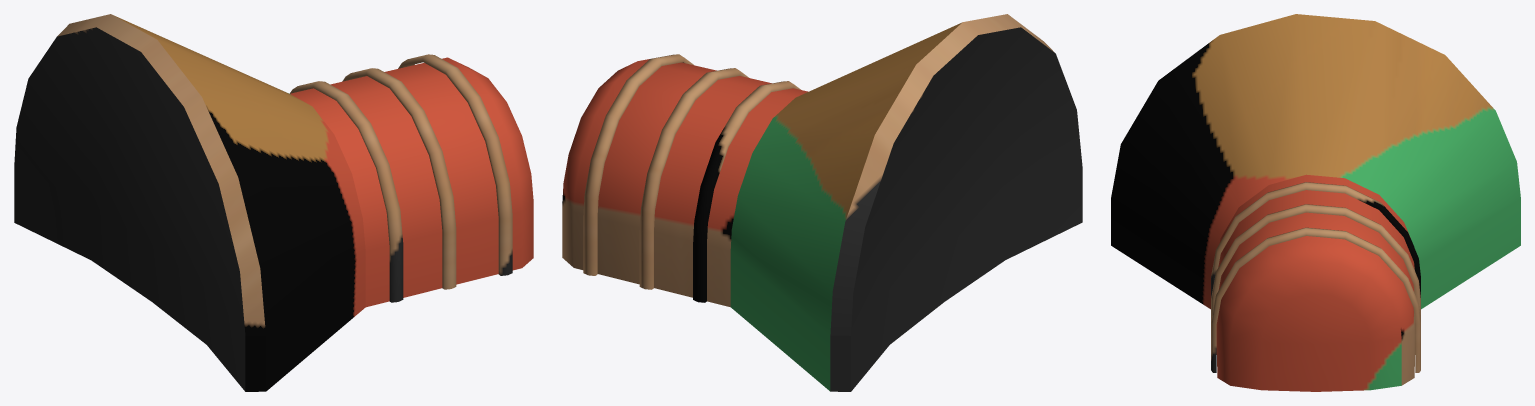
File: Speaker.FBX
3 renders of one model, left to right at view 1: azimuth 30°, elevation 25°; view 2: azimuth 150°, elevation 25°; view 3: azimuth 270°, elevation 25°, orthographic. The views are drawn at different scales.
Visible parts, largest first — view 1: Speaker; view 2: Speaker; view 3: Speaker.
Boxes of the visible parts, <box> form: Speaker: <box>14,14,533,391</box>; Speaker: <box>562,14,1082,391</box>; Speaker: <box>1111,14,1520,391</box>.
Bounding box in the file's own units: 0.0611 × 0.0432 × 0.0692.
